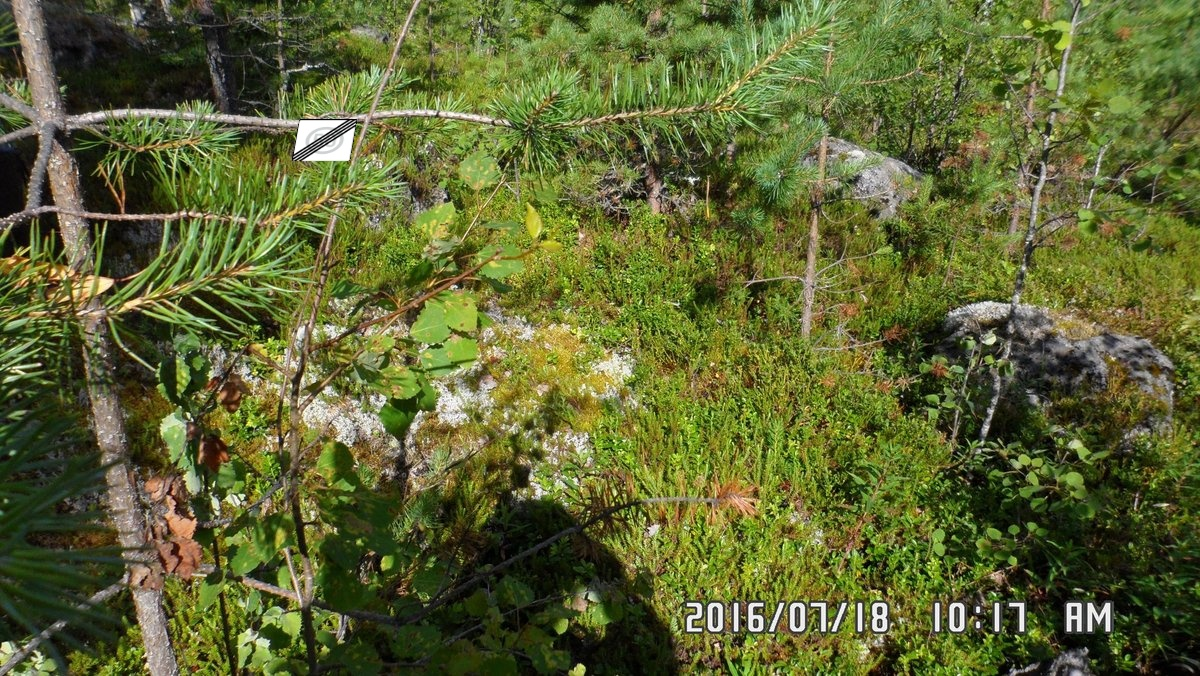50-end: (291, 119, 359, 162)
